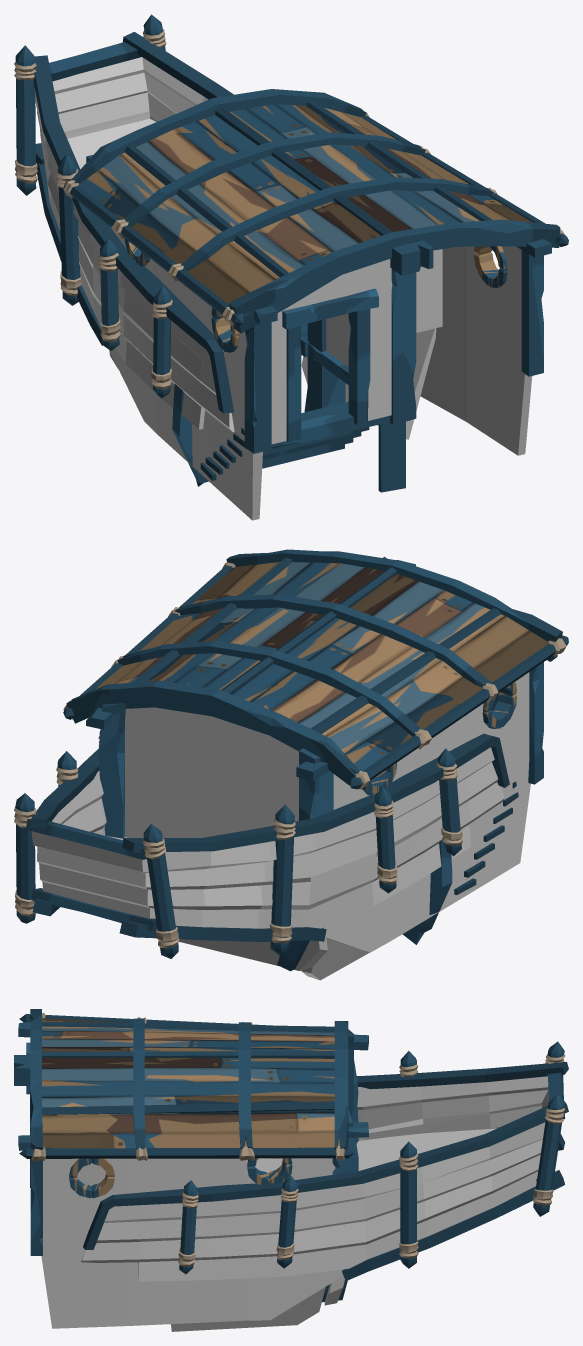
The model's file is SM_Veh_Ship_S_Back_02.fbx.
The picture shows the model from 3 angles, top to bottom: view 1: azimuth 30°, elevation 25°; view 2: azimuth 150°, elevation 25°; view 3: azimuth 270°, elevation 25°; orthographic projection. The views are drawn at different scales.
Visible parts, largest first — view 1: SM_Veh_Ship_S_Back_02; view 2: SM_Veh_Ship_S_Back_02; view 3: SM_Veh_Ship_S_Back_02.
Part boxes in pixels (left/top/right/bottom): SM_Veh_Ship_S_Back_02: left=14, top=14, right=568, bottom=520; SM_Veh_Ship_S_Back_02: left=14, top=549, right=568, bottom=980; SM_Veh_Ship_S_Back_02: left=14, top=1009, right=568, bottom=1331.
Size of the model in its own units: 606 by 499 by 1011.
